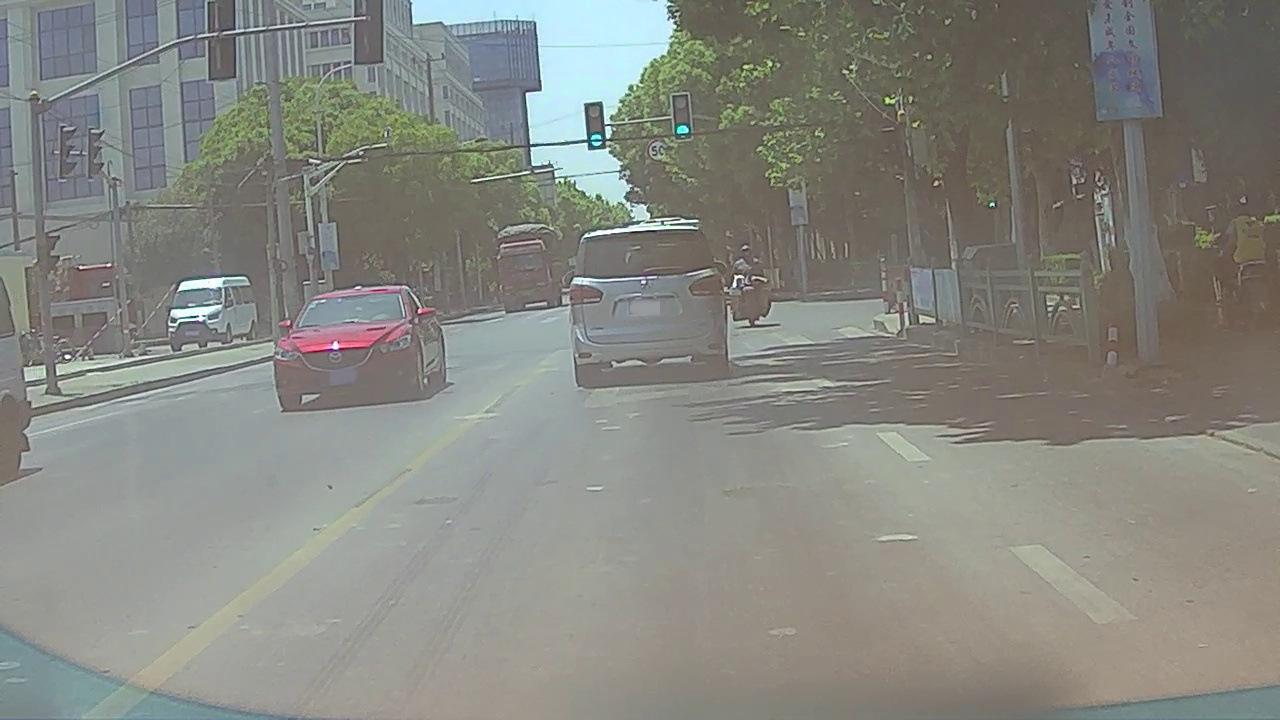traffic_light: (586, 103, 605, 149), (673, 93, 692, 139)
